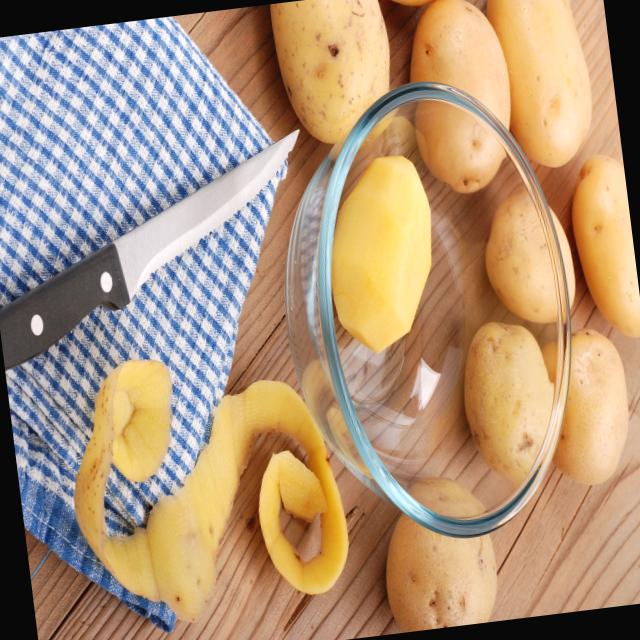strawberry: (400, 0, 517, 205), (265, 0, 404, 157), (453, 314, 567, 496), (368, 482, 500, 634), (489, 0, 602, 175), (546, 329, 640, 497), (563, 148, 640, 353), (481, 180, 578, 322)
